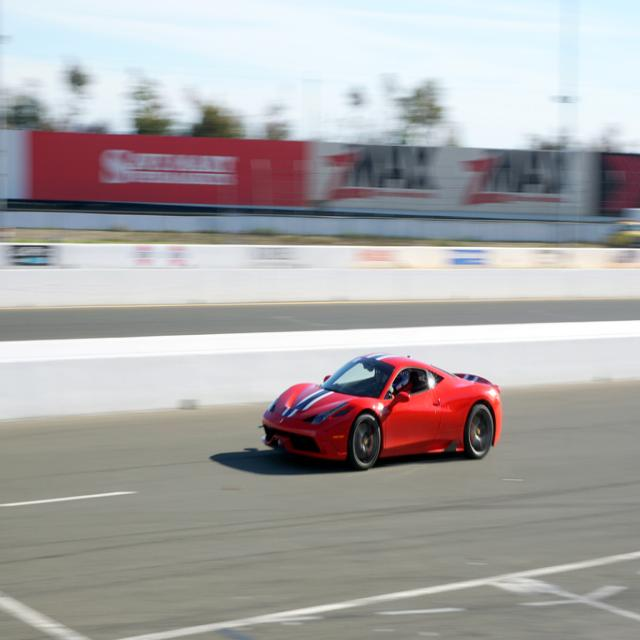car: (252, 350, 515, 477)
